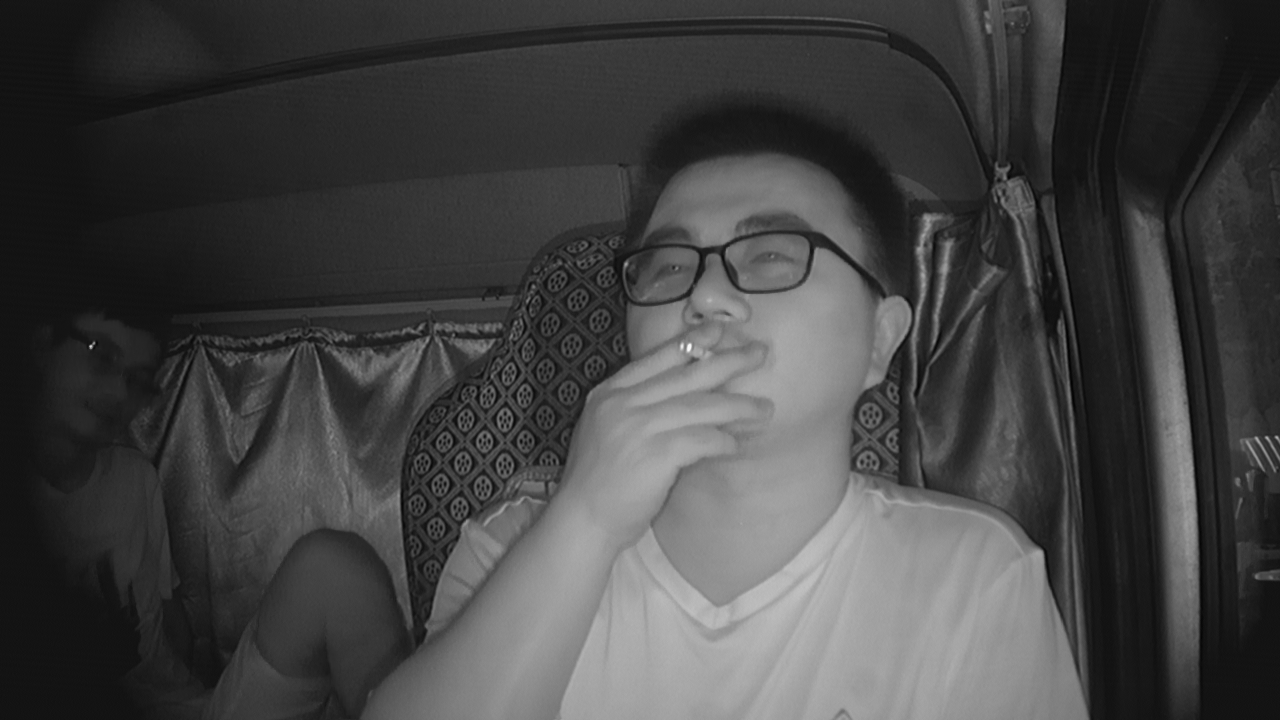hand: (610, 323, 761, 479)
